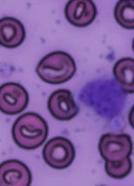M: (76, 74, 128, 126)
